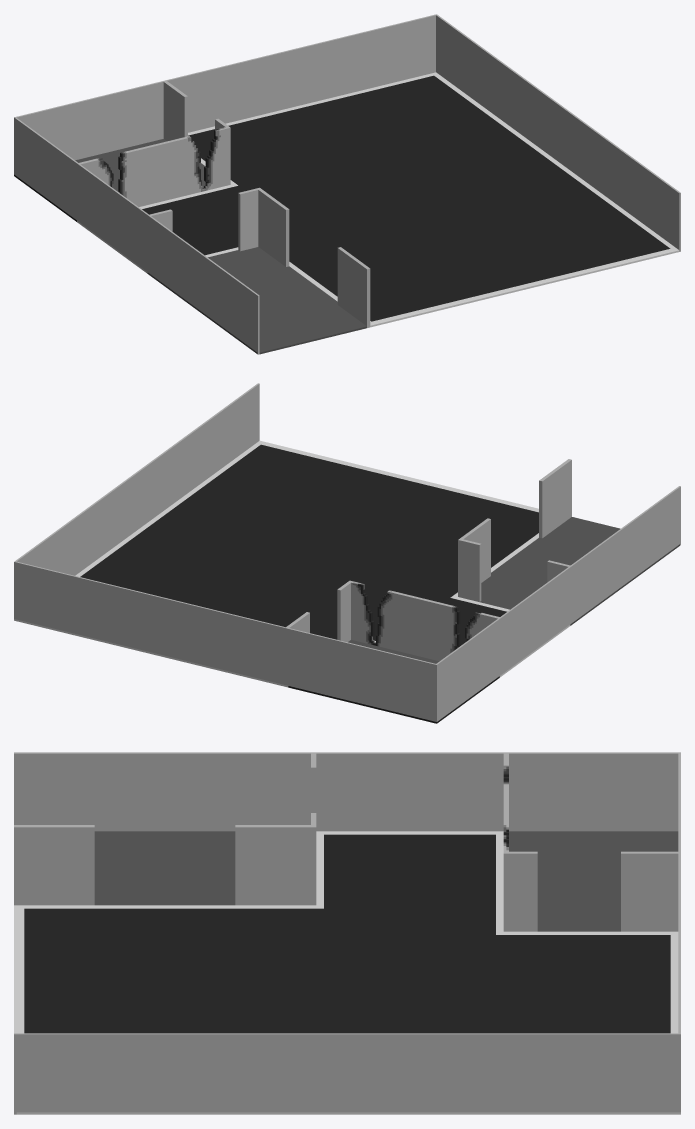
File: Test-salle3 1.obj
The picture shows the model from 3 angles, top to bottom: view 1: azimuth 30°, elevation 25°; view 2: azimuth 150°, elevation 25°; view 3: azimuth 270°, elevation 25°; orthographic projection. The views are drawn at different scales.
Bounding box in the file's own units: 25.6 × 3.4 × 25.6.
1 material, 1 textured.
